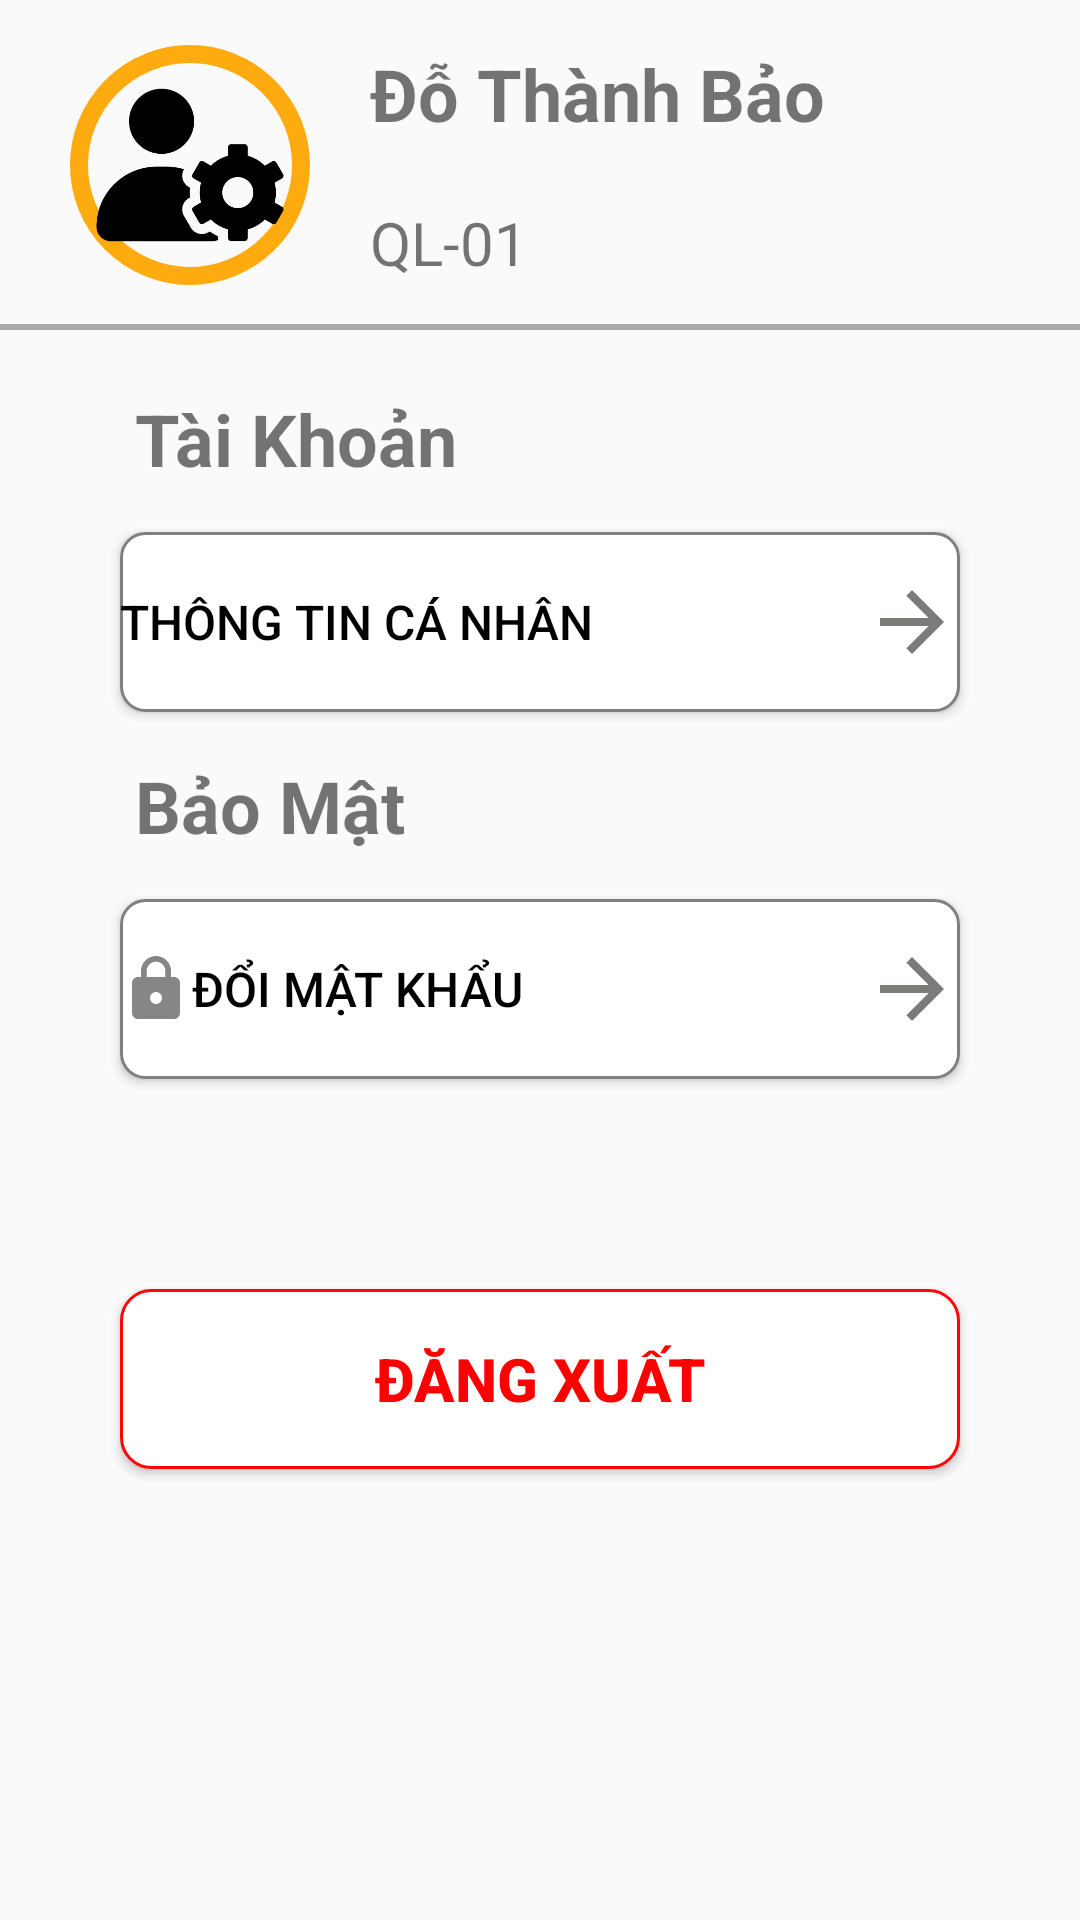

Named icons in this screenshot (1080 × 1920) and their centers, point (x, y):
usernhanvien: point (190, 165)
